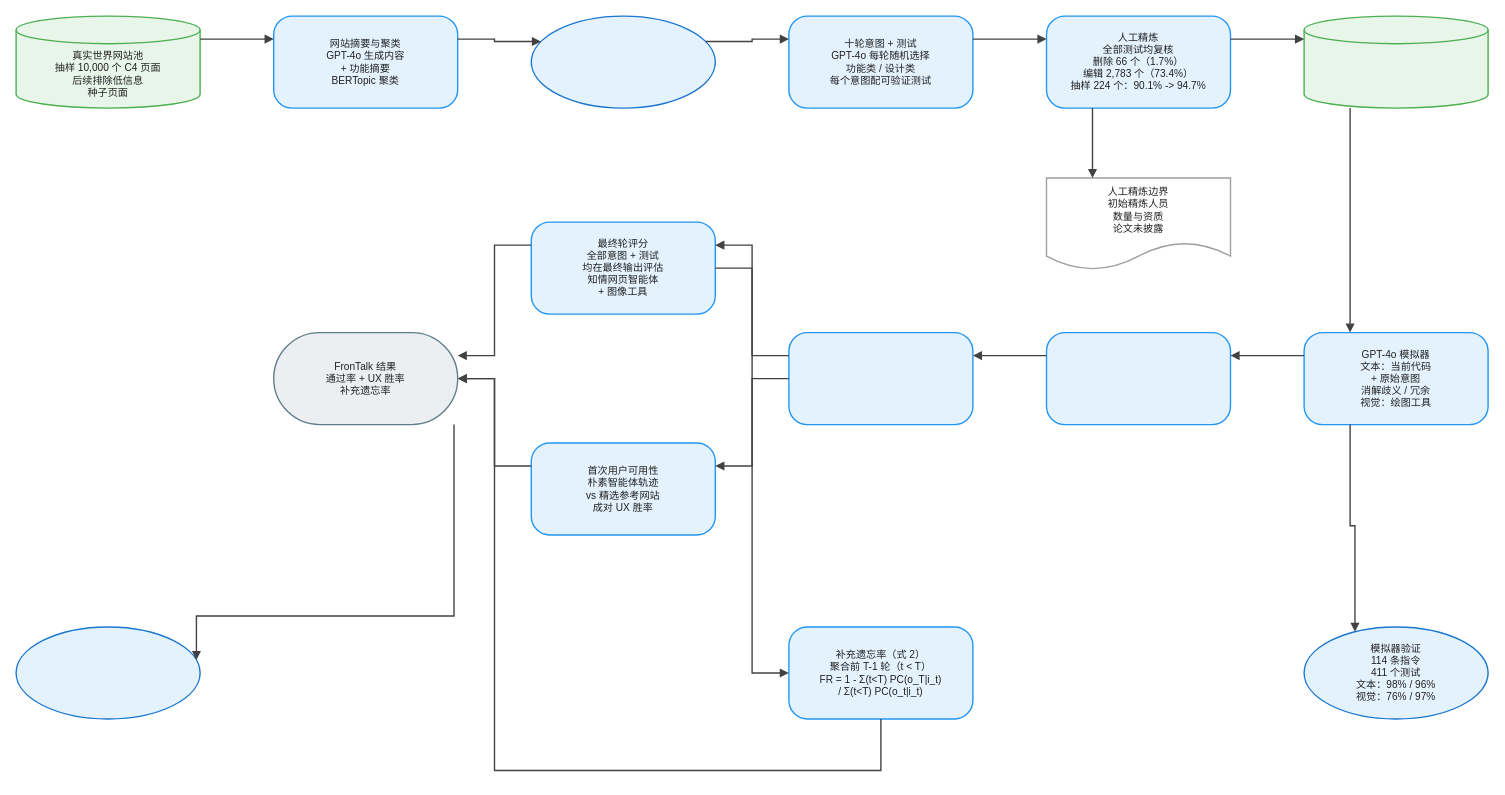
Some shapes in this 1505 by 795 pixel diagram are drawn without their labels. Each missing label, with the centre of its shape:
"FronTalk 发布集 100 个对话 / 1,000 轮 3,676 个精炼测试" belongs at (1395,61).
"人工评估验证 218 个通过判例 82.0%；Kappa 62.7 50 个 UX 对 84.0%；Kappa 66.7" belongs at (107,672).
"人工选择网站 主要主题簇各选 一个有效网站 共 100 个多样化种子" belongs at (623,61).
"对话式代码生成 当前指令 + 完整历史 更新前端代码 每一轮" belongs at (1138,378).
"对话输出 保留各轮网站 第 10 轮代码 = 最终网站" belongs at (880,378).
